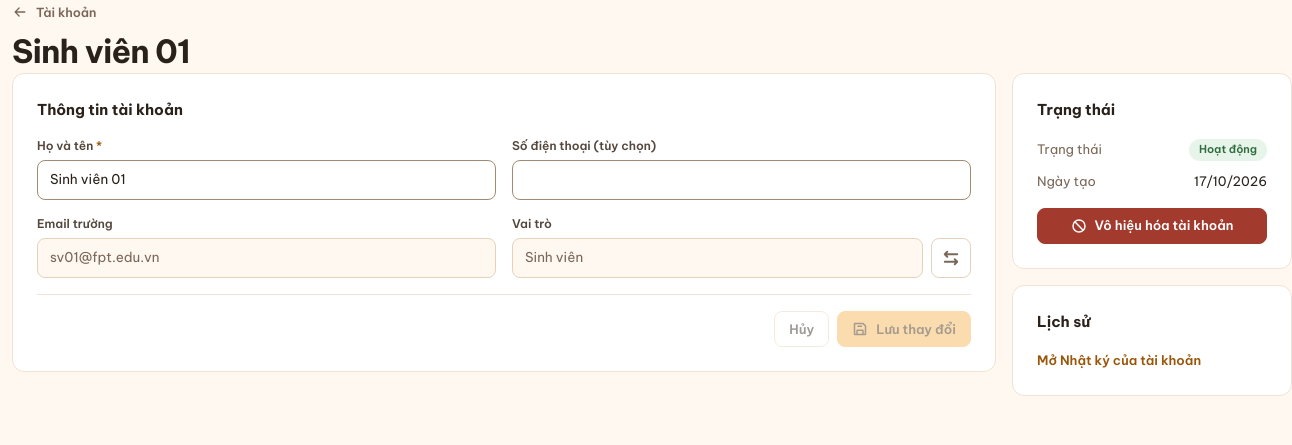
Test: AccountDetailPage › sửa thông tin gửi kèm version; xung đột thì báo và tải lại
The width and height of the screenshot is (1292, 445).
Replace the text in the field labelled "Họ và tên *" with "Tên mới" at (266, 180), box [50,169,483,191]
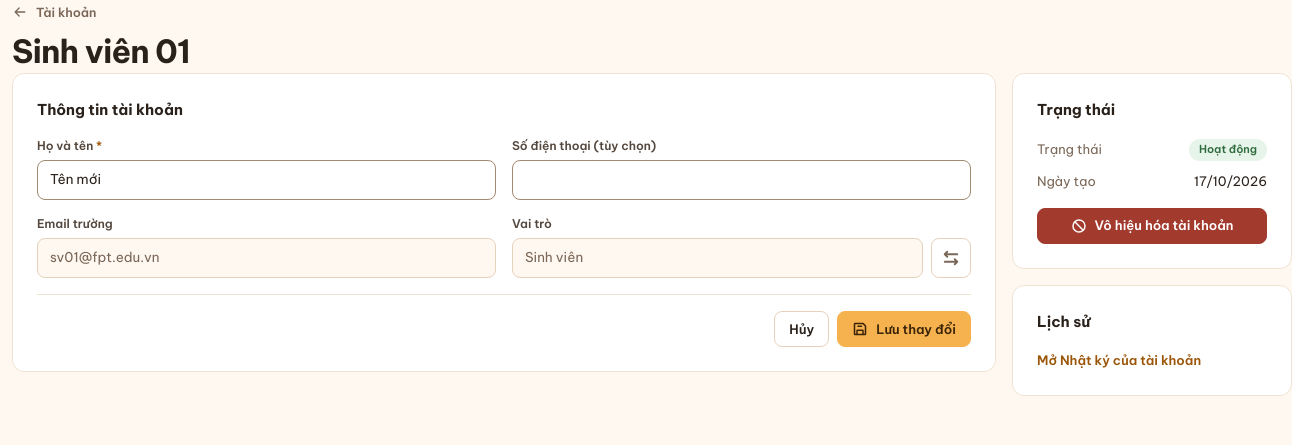
Click the button "Lưu thay đổi".
click(904, 329)  # box [837,311,971,347]
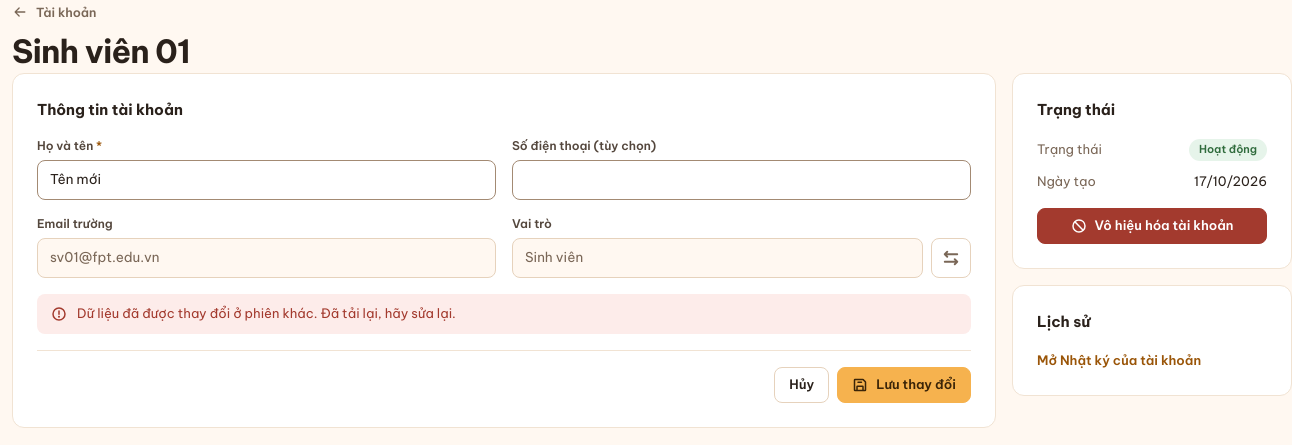
Now the message shows "Dữ liệu đã được thay đổi ở phiên khác", box [77,305,456,321]
